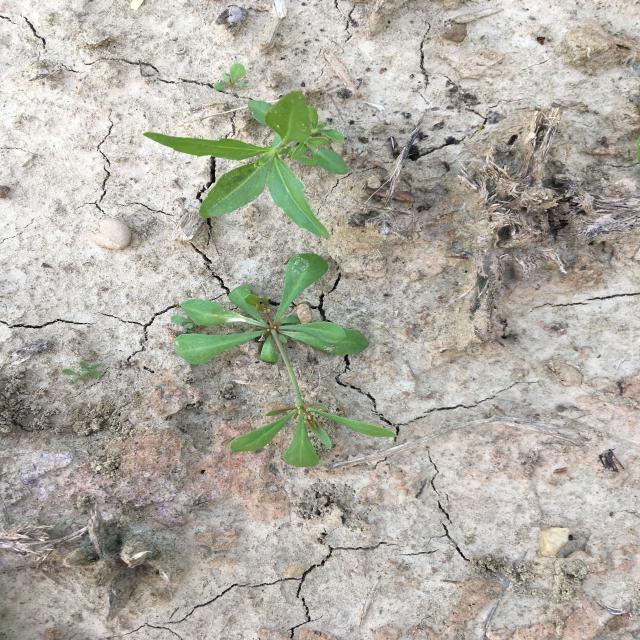Carpetweed: (167, 252, 402, 469)
Eclipta: (140, 89, 351, 240)
